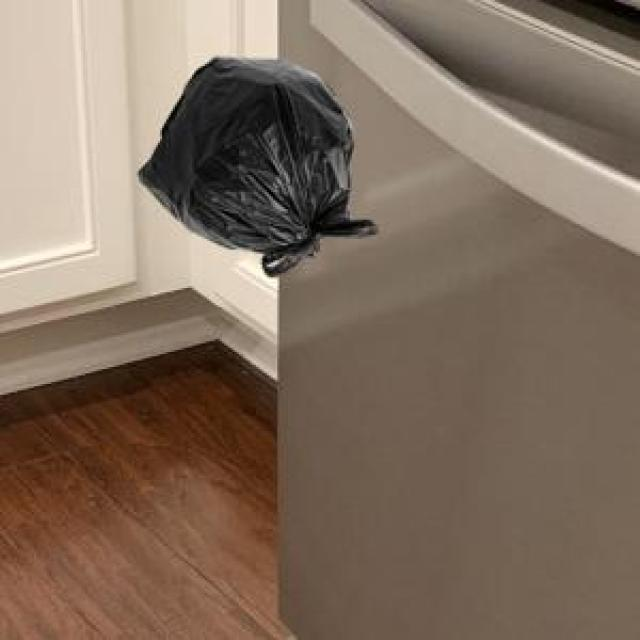Vinyl: (139, 58, 376, 276)
